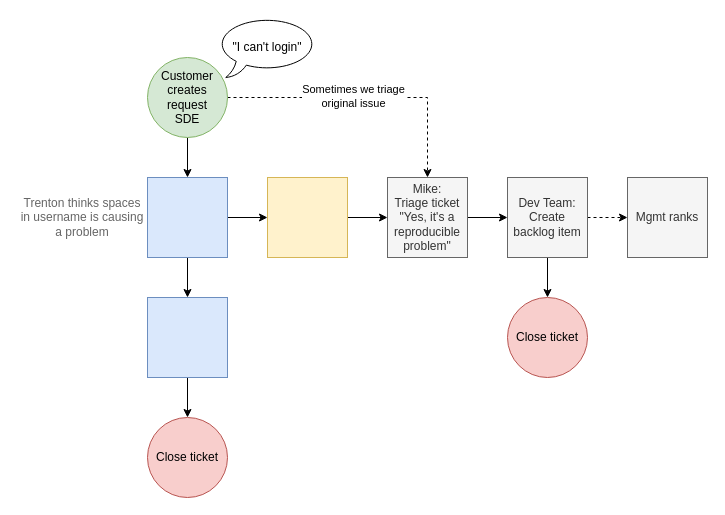
Some shapes in this 725 by 515 pixel diagram are drawn without their labels. The shapes that lost their labels are listed below. From the top down, each one's centre as x and y in pixels, then its label:
(x=187, y=217): Trention: Reset Password
(x=307, y=217): Create SDI ticket
(x=187, y=337): Respond to Customer
